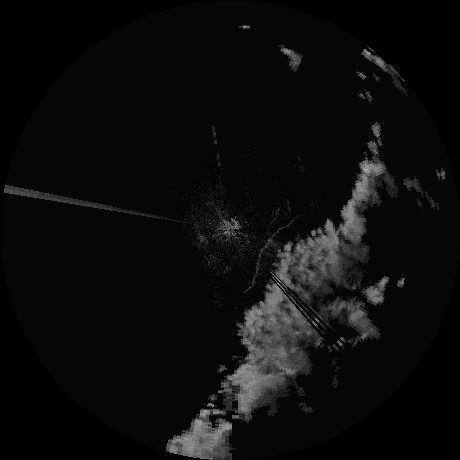frontgust: (248, 218, 293, 291)
